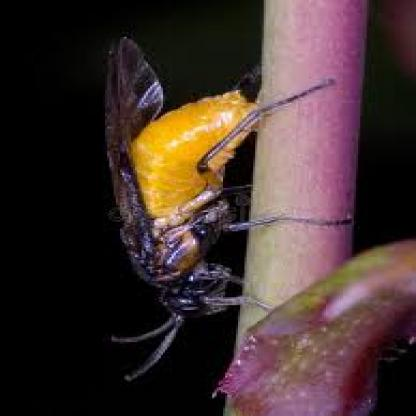sawfly: (89, 31, 354, 379)
